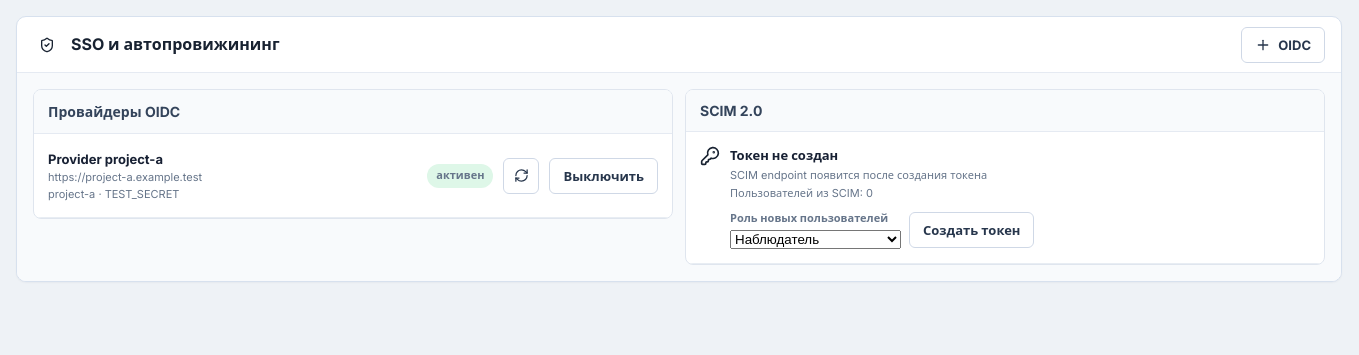
Test: does not expose failed SCIM rotation details or a previous secret
Click the button "Создать токен". click: (972, 230)
box: [909, 212, 1034, 248]
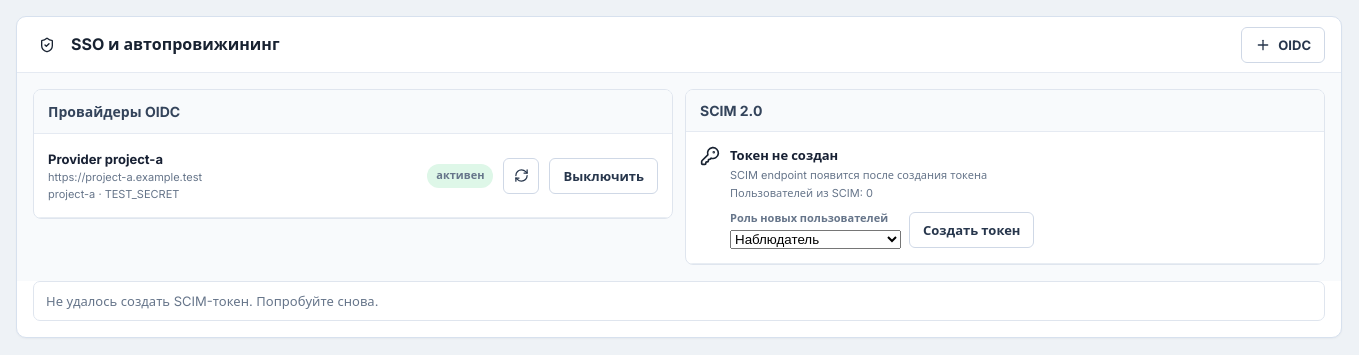
Now the text "Не удалось создать SCIM-токен" is shown, box [46, 293, 378, 309]
